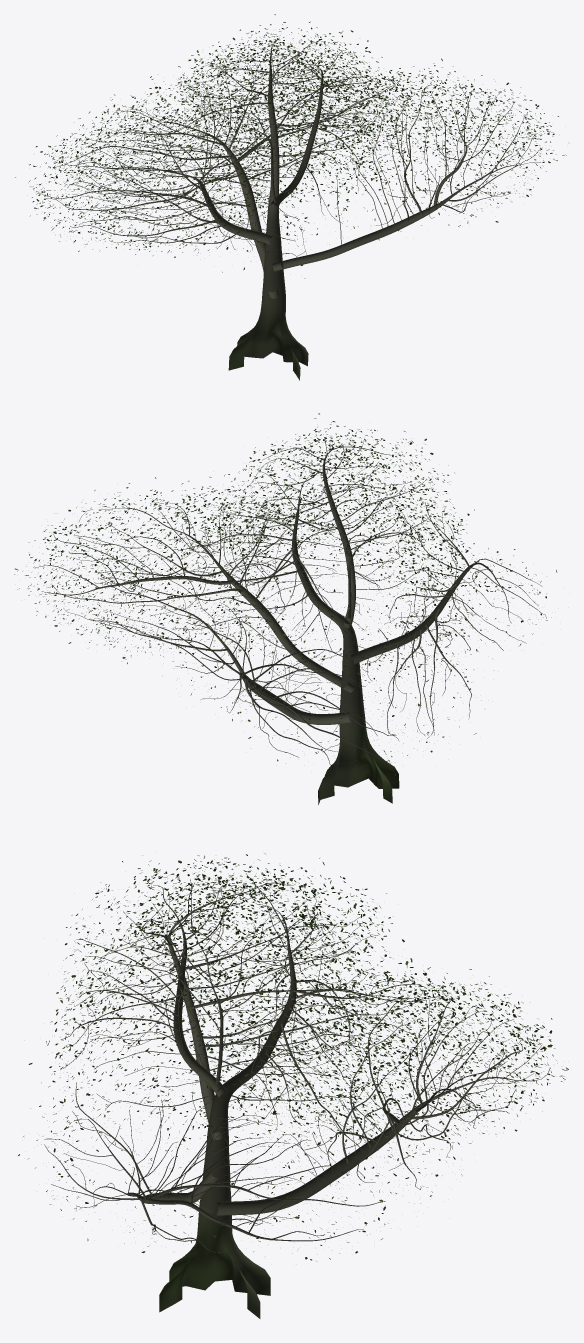
File: SM_Tree_oak_2.glb
3 renders of one model, top to bottom at view 1: azimuth 30°, elevation 25°; view 2: azimuth 150°, elevation 25°; view 3: azimuth 270°, elevation 25°, orthographic. The views are drawn at different scales.
Visible parts, largest first — view 1: SM_Tree_oak_2; view 2: SM_Tree_oak_2; view 3: SM_Tree_oak_2.
Part boxes in pixels (<box>): SM_Tree_oak_2: <box>15,14,569,380</box>; SM_Tree_oak_2: <box>14,413,557,804</box>; SM_Tree_oak_2: <box>18,853,568,1318</box>.
Size of the model in its own units: 22.95 by 14.82 by 16.63.
